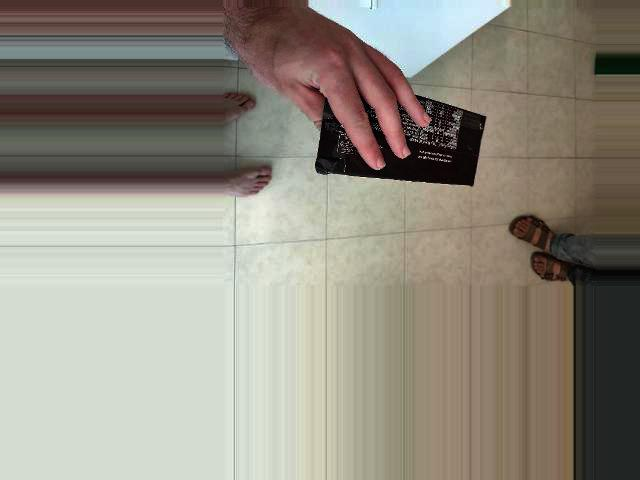chocolate: (391, 109, 502, 286)
